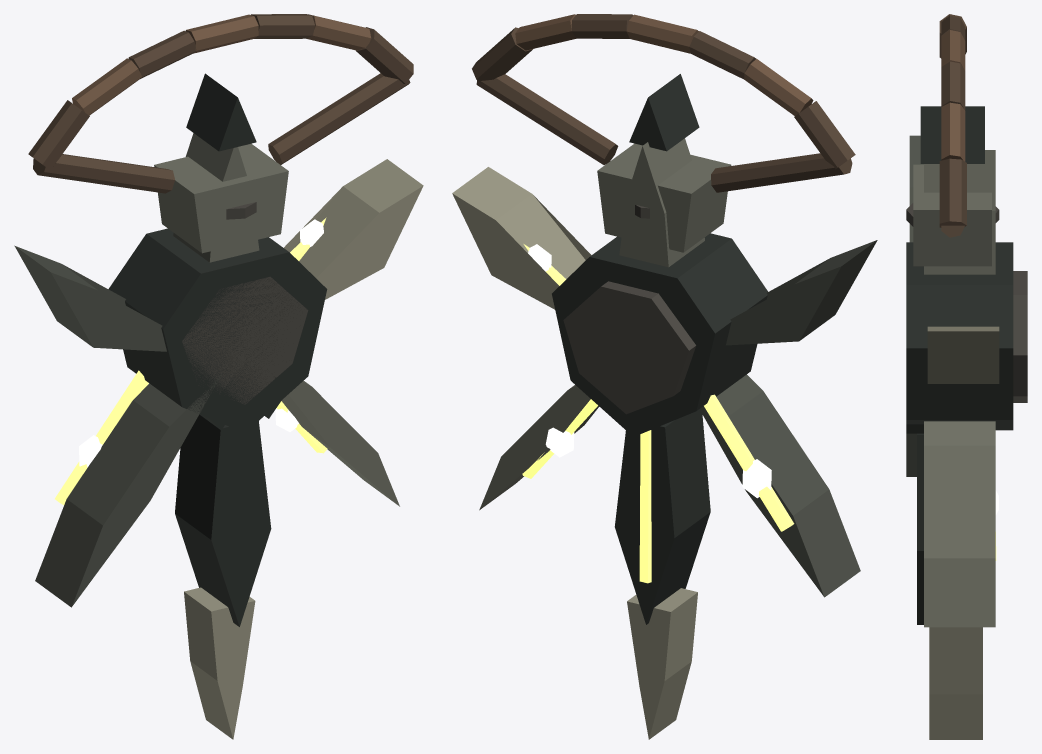
Rendered from BloomOfTheWitheredGrove.fbx.
3 views of the same model, side by side, from view 1: azimuth 30°, elevation 25°; view 2: azimuth 150°, elevation 25°; view 3: azimuth 270°, elevation 25° (orthographic).
Visible parts, largest first — view 1: Core_Socket, Petal_LowerLeft, Petal_Bottom, Core_Binding_Frame, Petal_UpperRight, Pendant_Bail, Petal_UpperLeft, Tail_Shard, Petal_LowerRight, Cord_Right_Drop, Crown_Shard, Cord_Left_Drop (+9 smaller); view 2: Core_Socket, Petal_Bottom, Petal_LowerLeft, Core_Binding_Frame, Petal_UpperRight, Tail_Shard, Petal_UpperLeft, Pendant_Bail, Petal_Top, Cord_Right_Drop, Petal_LowerRight, Crown_Shard (+12 smaller); view 3: Petal_LowerRight, Core_Socket, Tail_Shard, Pendant_Bail, Petal_UpperRight, Crown_Shard, Petal_Top, Core_Binding_Frame, Cord_Upper_06, Cord_Upper_05, Petal_Bottom, Cord_Upper_04 (+5 smaller).
Part boxes in pixels (x1,y1,x2,y2): Core_Socket: [108, 228, 327, 432]; Petal_LowerLeft: [35, 374, 221, 607]; Petal_Bottom: [175, 414, 271, 626]; Core_Binding_Frame: [182, 276, 308, 404]; Petal_UpperRight: [284, 159, 423, 299]; Pendant_Bail: [154, 143, 288, 253]; Petal_UpperLeft: [14, 245, 166, 351]; Tail_Shard: [184, 587, 255, 739]; Petal_LowerRight: [281, 380, 399, 506]; Cord_Right_Drop: [268, 73, 410, 164]; Crown_Shard: [186, 73, 256, 151]; Cord_Left_Drop: [33, 154, 174, 193]; Core_Socket: [552, 233, 767, 436]; Petal_Bottom: [614, 409, 710, 624]; Petal_LowerLeft: [699, 374, 860, 597]; Core_Binding_Frame: [563, 281, 696, 414]; Petal_UpperRight: [452, 167, 591, 309]; Tail_Shard: [627, 588, 697, 739]; Petal_UpperLeft: [726, 240, 877, 345]; Pendant_Bail: [597, 143, 731, 252]; Petal_Top: [619, 138, 704, 267]; Cord_Right_Drop: [476, 74, 618, 164]; Petal_LowerRight: [479, 385, 599, 510]; Crown_Shard: [629, 74, 699, 151]; Petal_LowerRight: [924, 421, 995, 627]; Core_Socket: [906, 242, 1013, 430]; Tail_Shard: [929, 627, 982, 739]; Pendant_Bail: [913, 164, 991, 266]; Petal_UpperRight: [927, 326, 999, 383]; Crown_Shard: [920, 106, 984, 163]; Petal_Top: [924, 150, 995, 274]; Core_Binding_Frame: [1013, 271, 1027, 402]; Cord_Upper_06: [939, 158, 966, 227]; Cord_Upper_05: [941, 102, 965, 161]; Petal_Bottom: [917, 433, 923, 624]; Cord_Upper_04: [941, 61, 965, 110].
Bounding box in the file's own units: 24.27 × 42.88 × 6.8.
